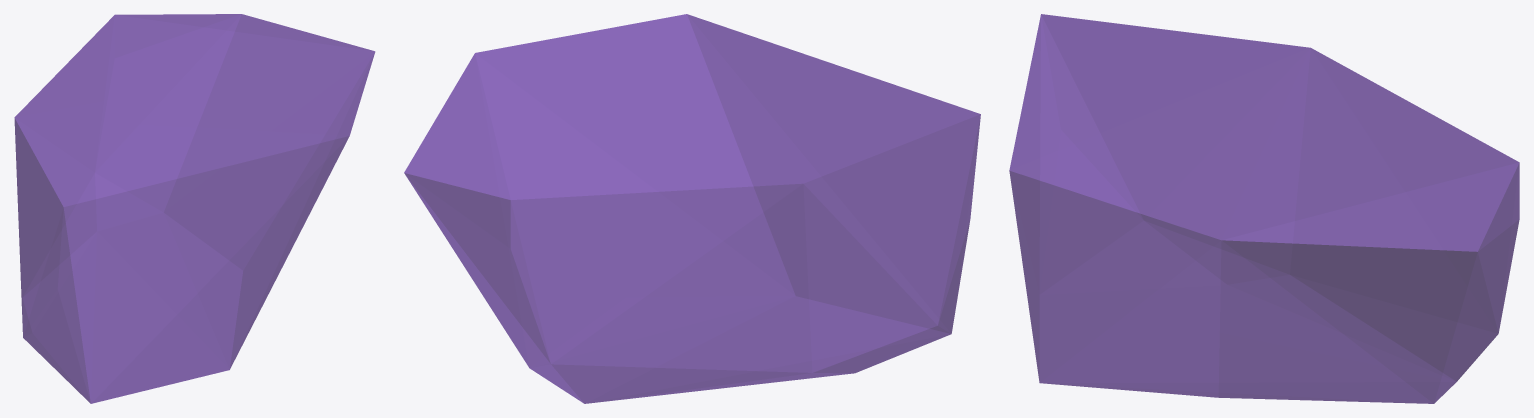
3 views of the same model, side by side, from view 1: azimuth 30°, elevation 25°; view 2: azimuth 150°, elevation 25°; view 3: azimuth 270°, elevation 25° (orthographic). The views are drawn at different scales.
Parts seen in each view (by area): view 1: Shape_IndexedFaceSet.114_Shape_IndexedFaceSet.540; view 2: Shape_IndexedFaceSet.114_Shape_IndexedFaceSet.540; view 3: Shape_IndexedFaceSet.114_Shape_IndexedFaceSet.540.
Boxes of the visible parts, left/top/right/bottom form: Shape_IndexedFaceSet.114_Shape_IndexedFaceSet.540: left=14, top=14, right=375, bottom=403; Shape_IndexedFaceSet.114_Shape_IndexedFaceSet.540: left=404, top=14, right=980, bottom=403; Shape_IndexedFaceSet.114_Shape_IndexedFaceSet.540: left=1009, top=14, right=1519, bottom=403.
Bounding box in the file's own units: 0.2037 × 0.1101 × 0.1809.
